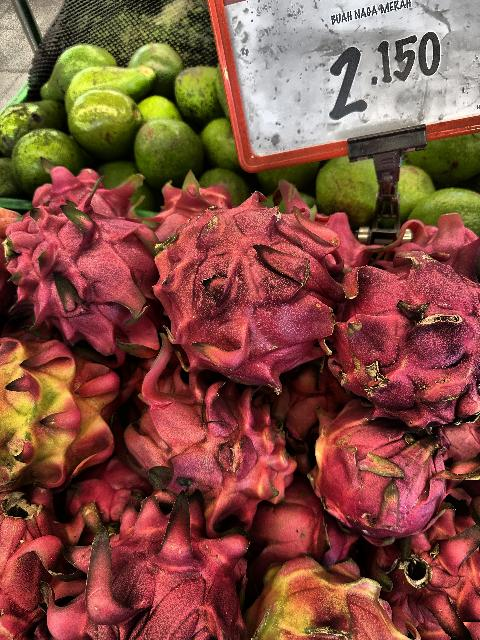buah-naga-belum-matang: (290, 382, 452, 544), (0, 324, 120, 498), (246, 538, 406, 640)
buah-naga-matang: (154, 184, 354, 393), (122, 333, 294, 524), (338, 216, 480, 424), (60, 504, 255, 640), (9, 172, 157, 334)
